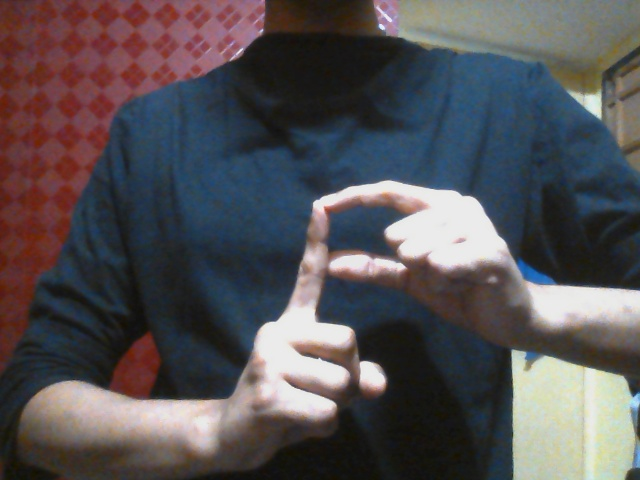P: (232, 178, 507, 454)
